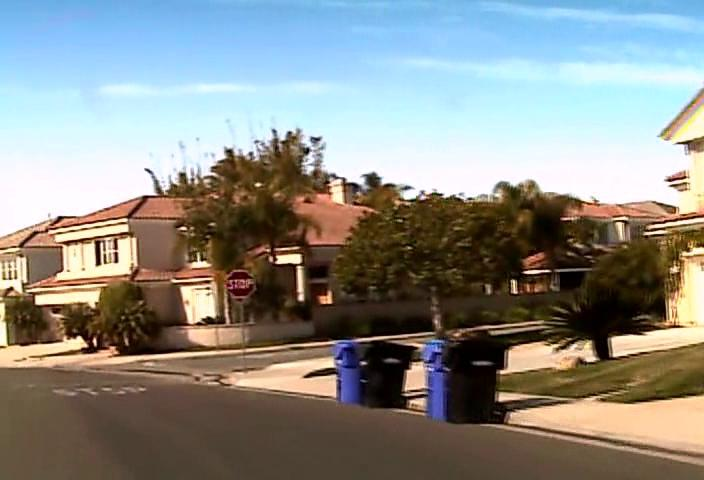stop: (224, 269, 256, 299)
